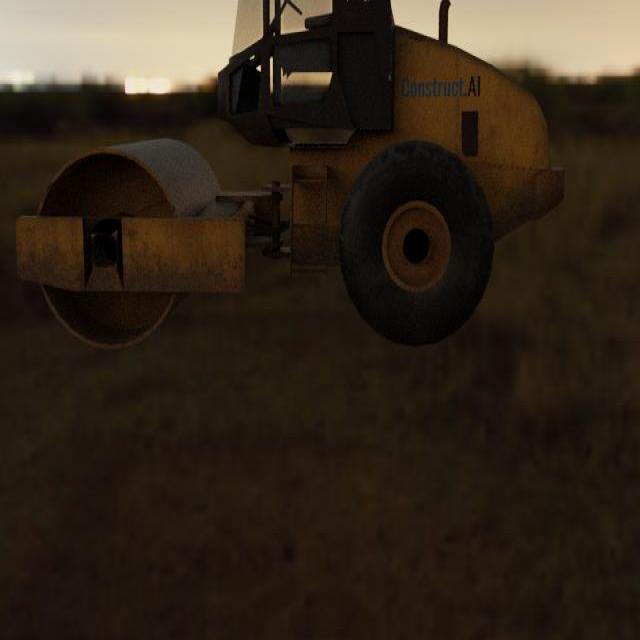Roller: (14, 0, 565, 351)
